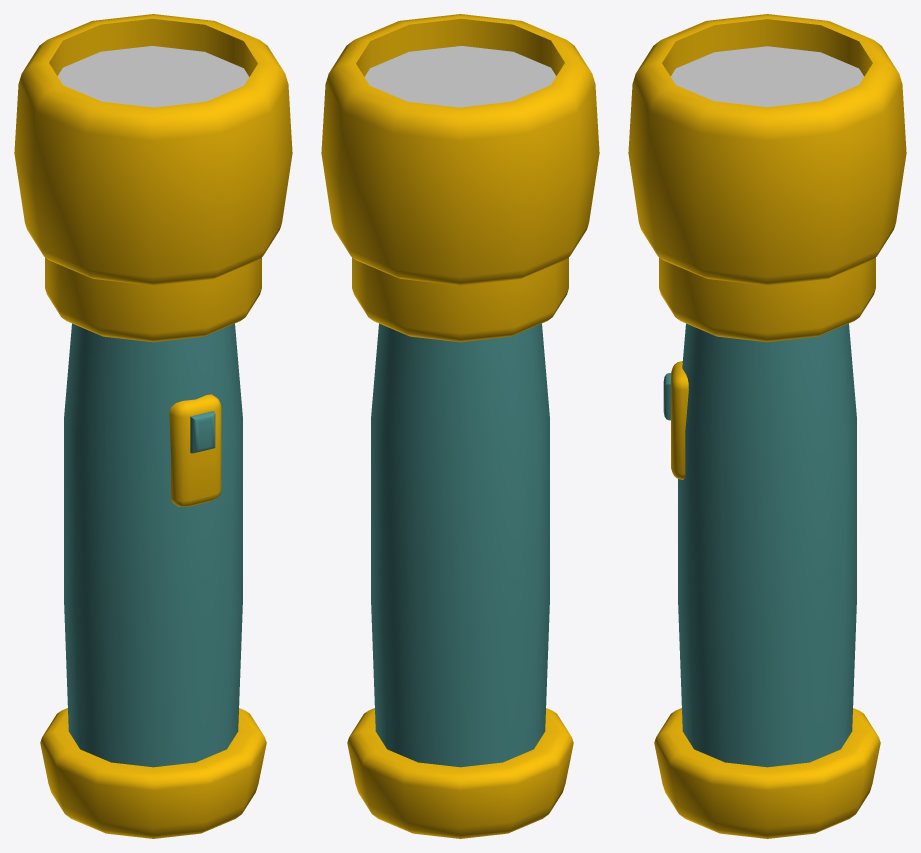
File: Handle Light_3.fbx
3 renders of one model, left to right at view 1: azimuth 30°, elevation 25°; view 2: azimuth 150°, elevation 25°; view 3: azimuth 270°, elevation 25°, orthographic.
Visible parts, largest first — view 1: Handle Light_3; view 2: Handle Light_3; view 3: Handle Light_3.
Part boxes in pixels (x1,y1,x2,y2): Handle Light_3: [14, 14, 292, 838]; Handle Light_3: [321, 14, 599, 838]; Handle Light_3: [628, 14, 906, 838].
Bounding box in the file's own units: 0.0585 × 0.1712 × 0.0585.
